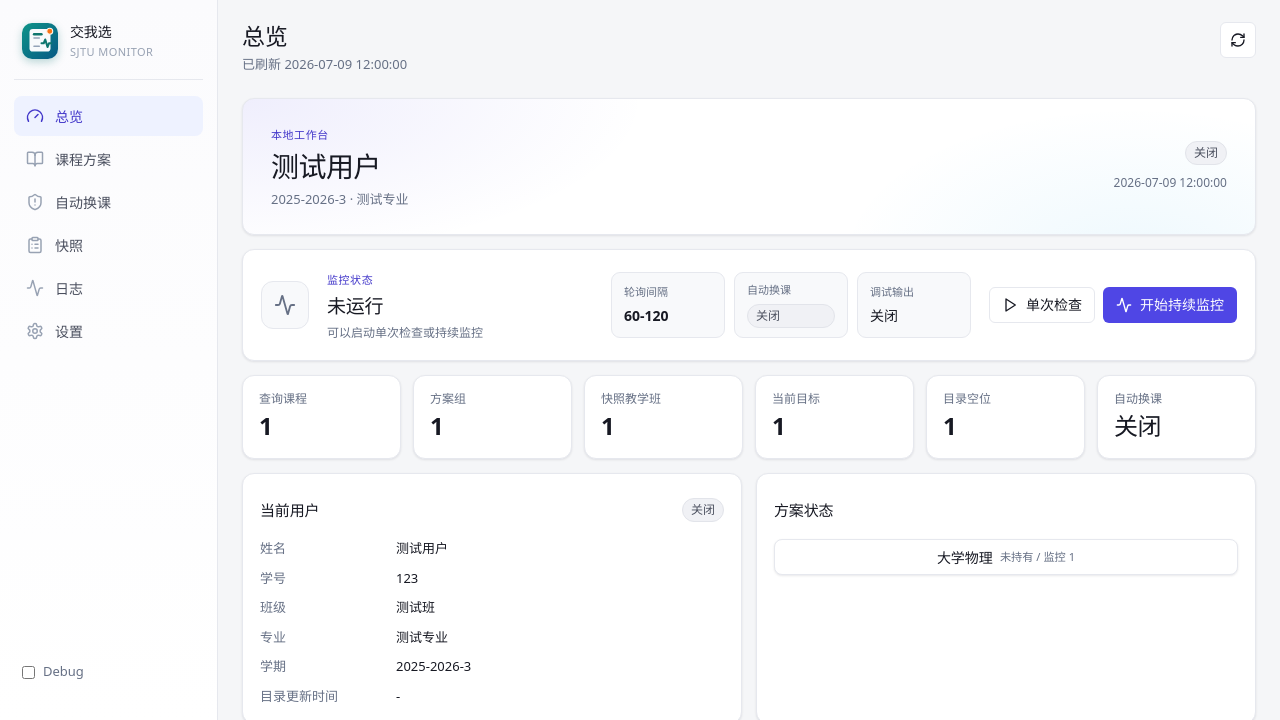
Test: course workspace › keeps command output off the overview and in logs
Expected: the heading "当前用户" is shown, x1=260 y1=499 x2=319 y2=521
Expected: the text "persisted command output" is not shown
Click the button "日志": (108, 288) x1=14 y1=268 x2=203 y2=308
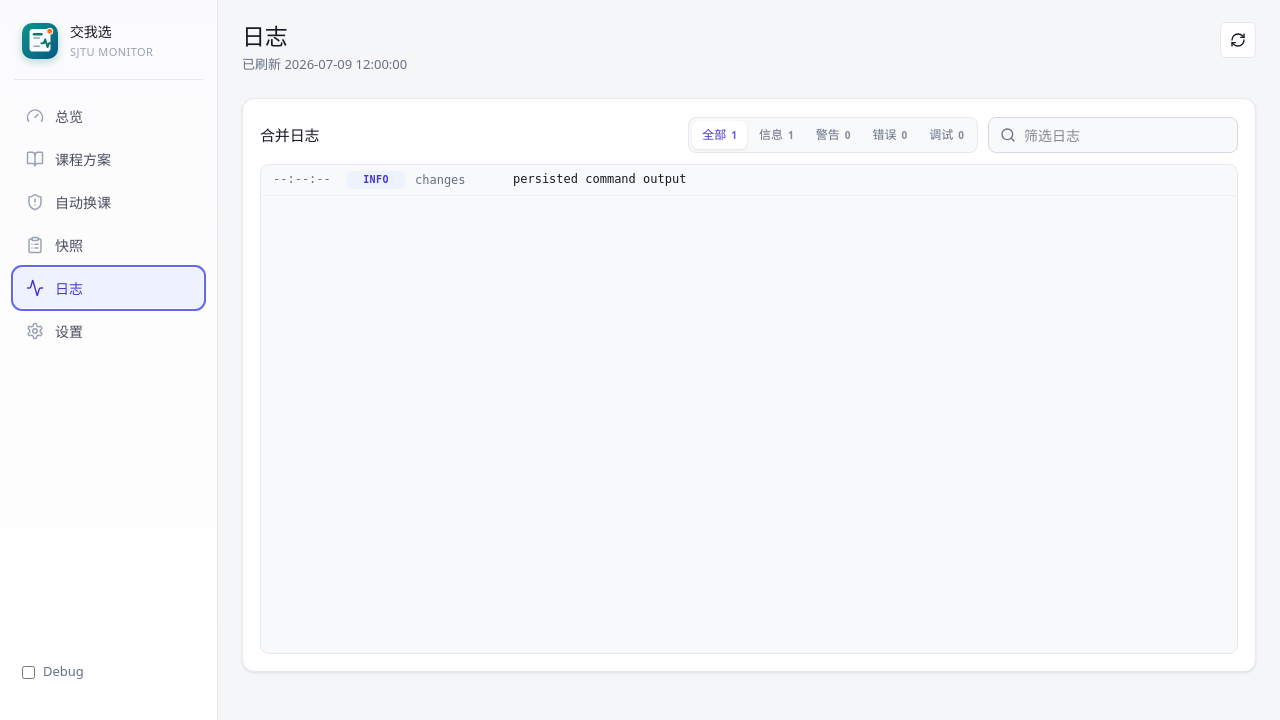
Result: the text "persisted command output" is shown at x1=513 y1=172 x2=686 y2=186
